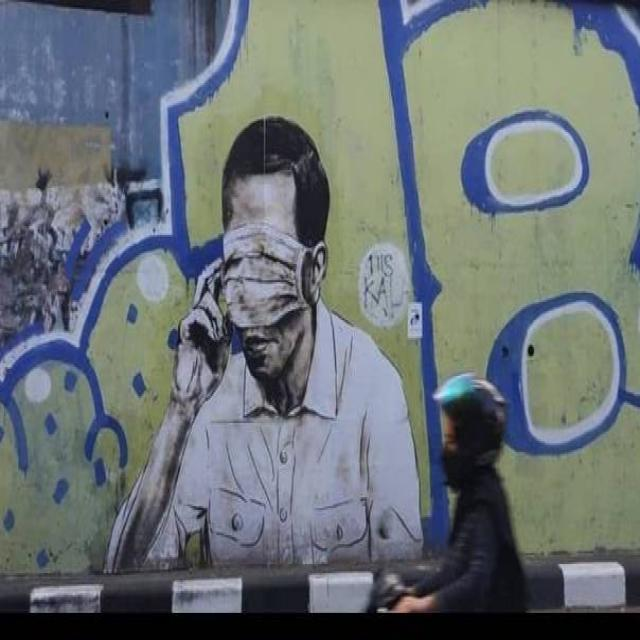-: (1, 0, 640, 573), (110, 115, 427, 568)
